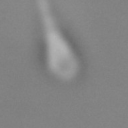normal: (34, 1, 59, 38)
